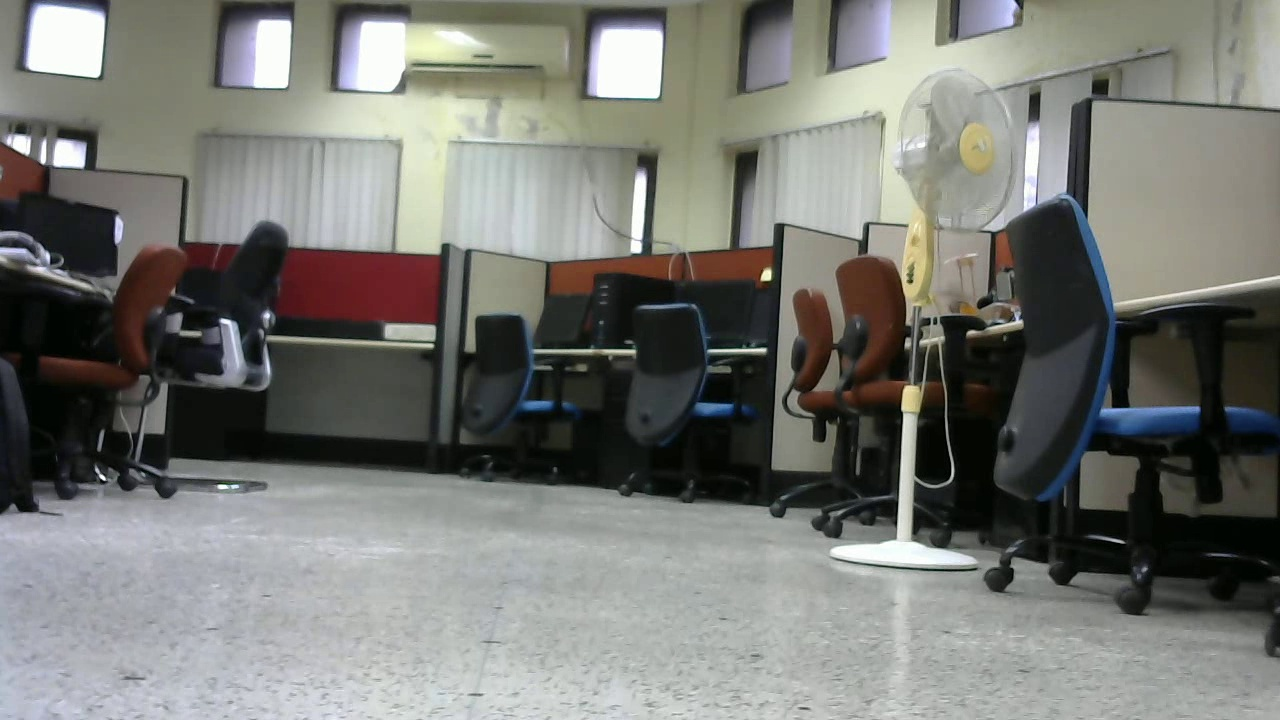chair: (978, 195, 1280, 617), (825, 258, 984, 541), (166, 212, 298, 493), (43, 243, 163, 493), (622, 298, 756, 508), (773, 291, 894, 520), (457, 315, 587, 485)
